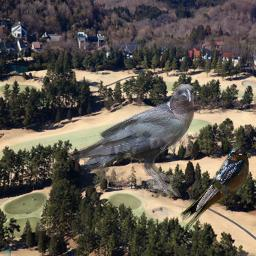Crow: (68, 84, 194, 197)
Swallow: (179, 147, 249, 236)
